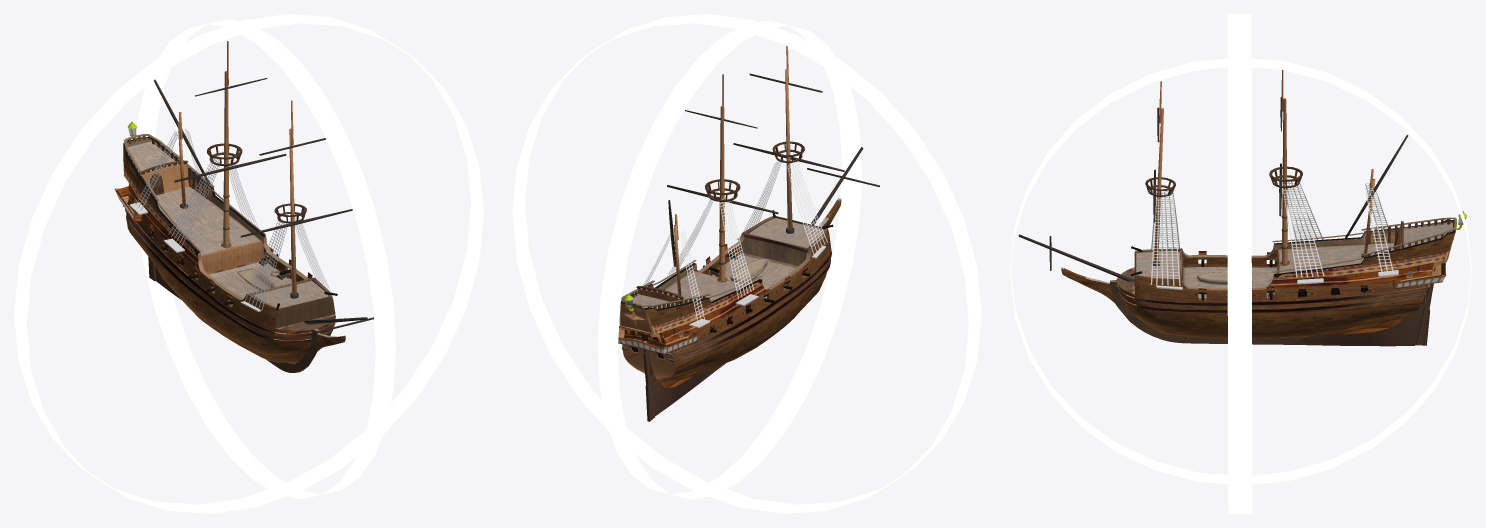
File: roter_lowe_1597.glb
3 renders of one model, left to right at view 1: azimuth 30°, elevation 25°; view 2: azimuth 150°, elevation 25°; view 3: azimuth 270°, elevation 25°, orthographic. The views are drawn at different scales.
Visible parts, largest first — view 1: Plane, anneau_2, anneau_1, cordageMisaine, cordageGrandMat, Cylinder.001, Cylinder, Plane.003, Plane.002, Plane.005, Cylinder.014, cordageArtimont; view 2: anneau_2, Plane, anneau_1, cordageMisaine, cordageGrandMat, Cylinder.001, Cylinder, Plane.003, Plane.002, cordageArtimont, Cylinder.014, chaloupe; view 3: Plane, anneau_1, anneau_2, cordageGrandMat, cordageMisaine, Plane.003, Plane.002, Cylinder.001, Cylinder, cordageArtimont, Plane.005, Cylinder.014 (+1 smaller).
Boxes of the visible parts, x1,y1,x2,y2 form: Plane: [114, 134, 345, 372]; anneau_2: [135, 19, 395, 499]; anneau_1: [14, 14, 483, 513]; cordageMisaine: [245, 217, 331, 310]; cordageGrandMat: [168, 156, 258, 246]; Cylinder.001: [240, 100, 352, 294]; Cylinder: [223, 41, 229, 245]; Plane.003: [125, 209, 335, 337]; Plane.002: [126, 216, 335, 343]; Plane.005: [128, 140, 178, 176]; Cylinder.014: [154, 79, 210, 205]; cordageArtimont: [135, 129, 203, 210]; anneau_2: [597, 20, 862, 499]; Plane: [618, 198, 841, 416]; anneau_1: [512, 14, 981, 513]; cordageMisaine: [743, 158, 827, 254]; cordageGrandMat: [664, 195, 754, 299]; Cylinder.001: [733, 45, 844, 229]; Cylinder: [719, 74, 725, 280]; Plane.003: [664, 250, 831, 356]; Plane.002: [621, 259, 830, 362]; cordageArtimont: [643, 229, 704, 323]; Cylinder.014: [668, 200, 681, 297]; chaloupe: [730, 258, 768, 283]; Plane: [1061, 217, 1457, 346]; anneau_1: [1227, 14, 1252, 513]; anneau_2: [1010, 58, 1471, 484]; cordageGrandMat: [1282, 179, 1324, 277]; cordageMisaine: [1150, 191, 1180, 286]; Plane.003: [1116, 284, 1429, 306]; Plane.002: [1119, 292, 1425, 313]; Cylinder.001: [1153, 81, 1163, 262]; Cylinder: [1281, 70, 1287, 263]; cordageArtimont: [1365, 183, 1393, 273]; Plane.005: [1403, 222, 1452, 247]; Cylinder.014: [1345, 135, 1408, 255].
Size of the model in its own units: 34.79 by 34.79 by 32.06.
Materials: 16 (6 with a texture image).
